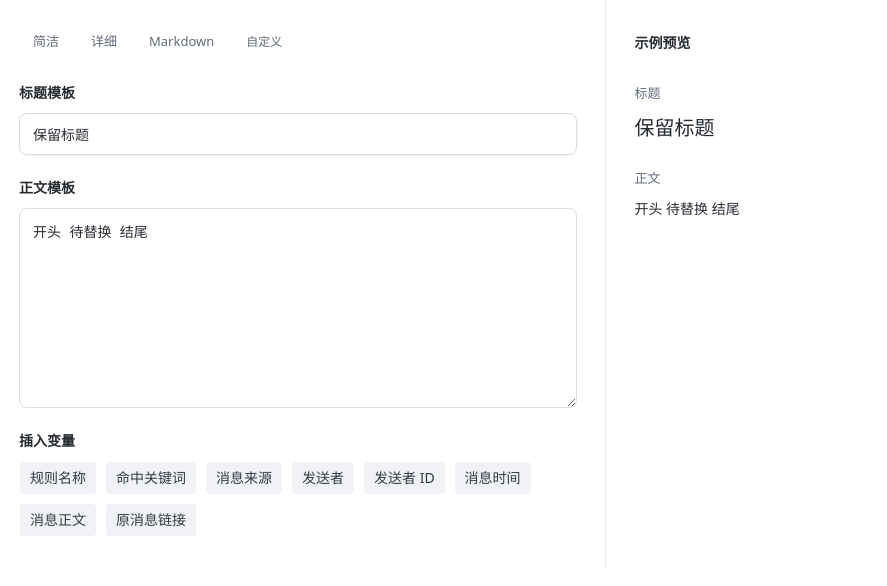
ForwardFormatEditor › keeps the last body selection when a variable is activated by keyboard
The width and height of the screenshot is (887, 586).
Click the text box labelled "正文模板" at (298, 308), box [19, 208, 577, 408]
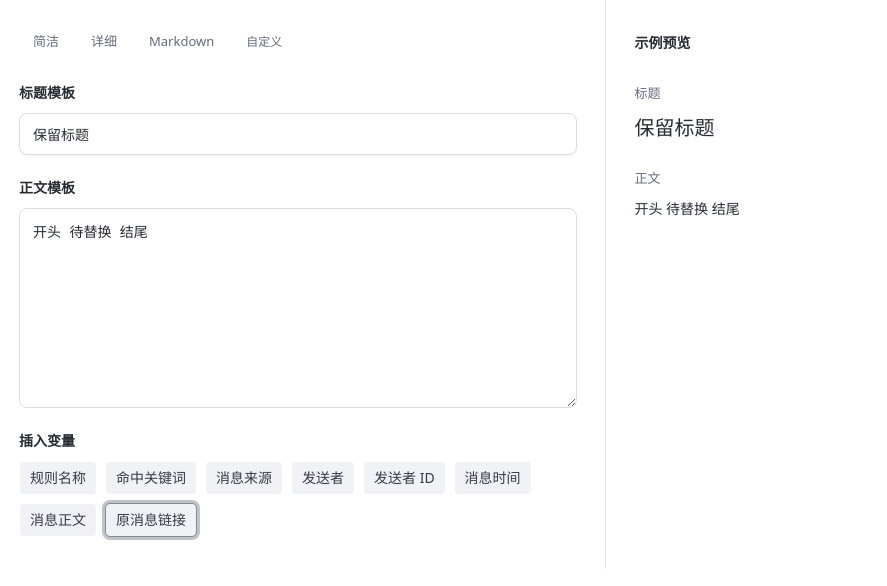
Press Enter
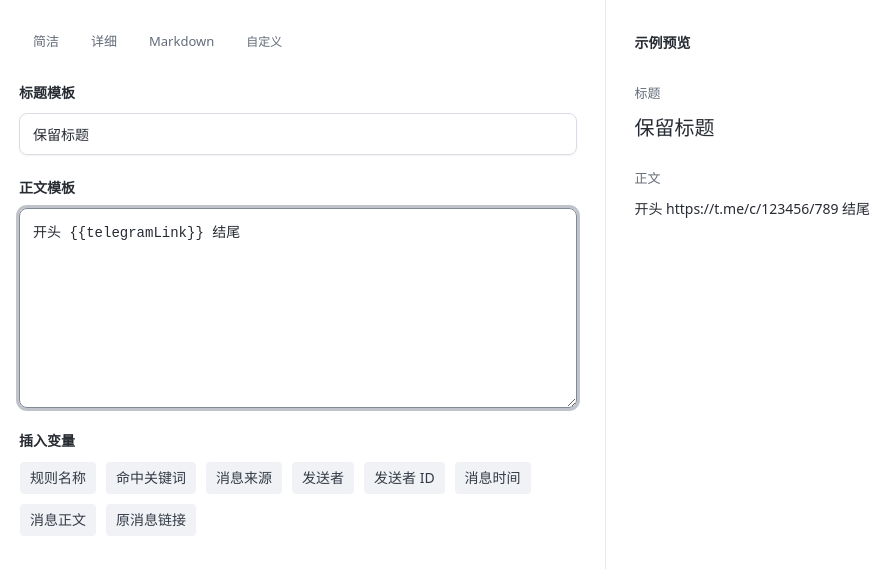
Check: the field labelled "标题模板" holds "保留标题", box [19, 113, 577, 155]
Check: the text box labelled "正文模板" holds "开头 {{telegramLink}} 结尾", box [19, 208, 577, 408]
